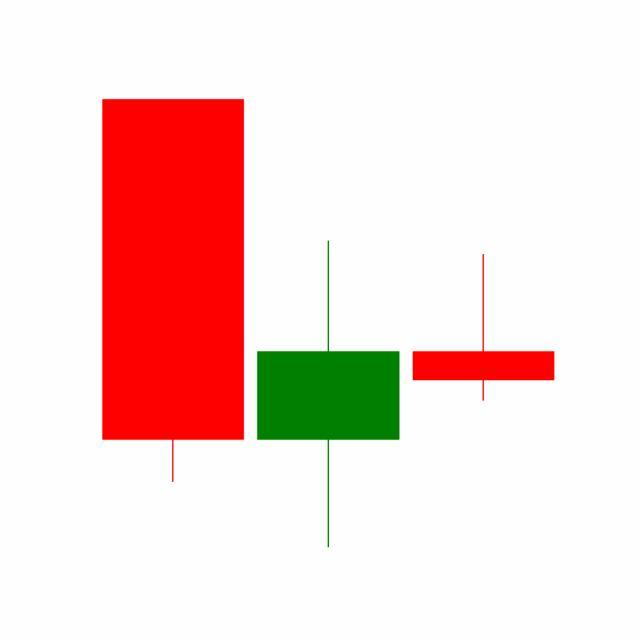Spinning Top: (250, 238, 407, 552)
